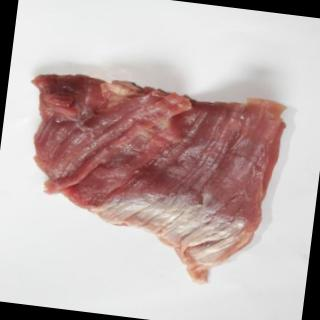Daging Sapi: (6, 68, 293, 293)
